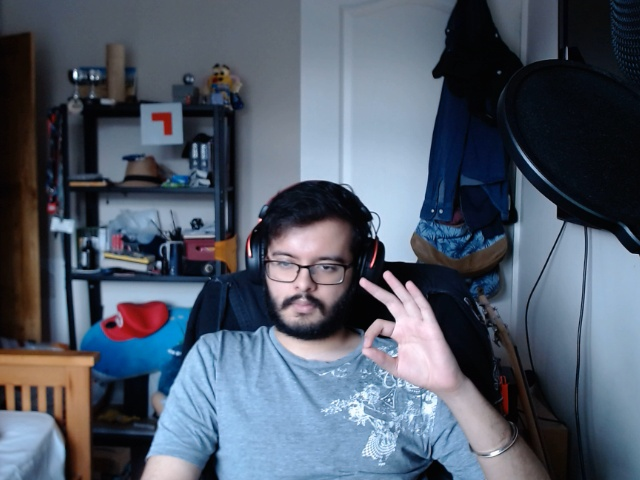Okay: (360, 268, 476, 409)
